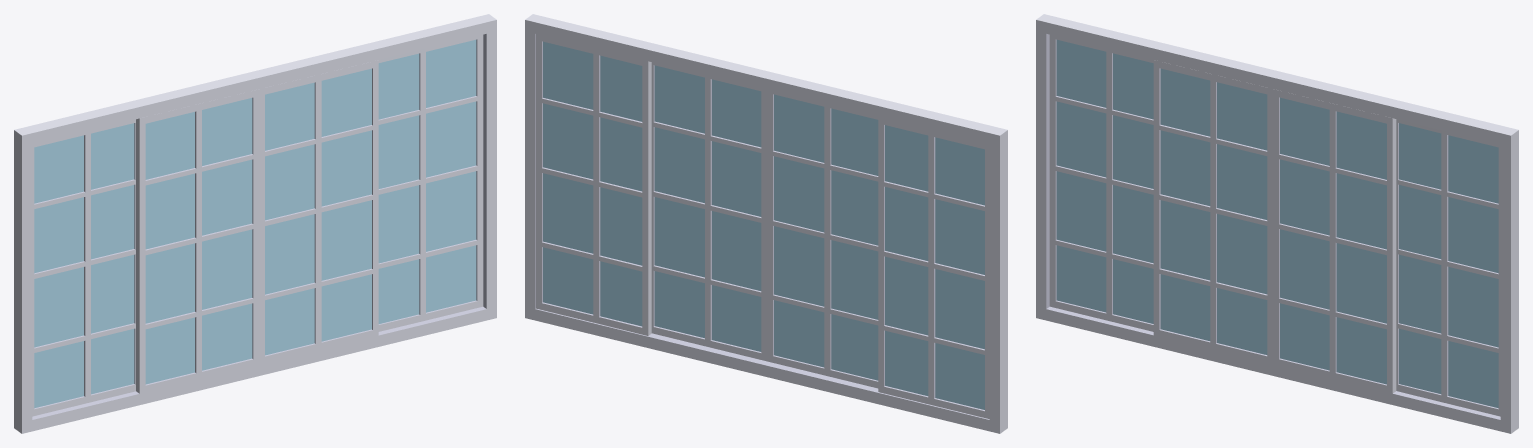
File: SM_Window_200_120.fbx
3 renders of one model, left to right at view 1: azimuth 30°, elevation 25°; view 2: azimuth 150°, elevation 25°; view 3: azimuth 330°, elevation 25°, orthographic.
Parts seen in each view (by area): view 1: polySurface9, Glass2, Glass3, Glass, Glass1, polySurface13, polySurface11, polySurface12, polySurface8; view 2: Glass2, polySurface9, Glass3, Glass, Glass1, polySurface12, polySurface8, polySurface11, polySurface13; view 3: polySurface9, Glass3, Glass2, Glass1, Glass, polySurface11, polySurface13, polySurface8, polySurface12.
Boxes of the visible parts, bbox=[...] form: polySurface9: bbox=[14, 14, 496, 433]; Glass2: bbox=[265, 68, 371, 355]; Glass3: bbox=[145, 98, 252, 384]; Glass: bbox=[34, 123, 134, 408]; Glass1: bbox=[378, 39, 476, 323]; polySurface13: bbox=[136, 89, 259, 393]; polySurface11: bbox=[259, 60, 378, 364]; polySurface12: bbox=[378, 34, 483, 331]; polySurface8: bbox=[32, 119, 135, 416]; Glass2: bbox=[654, 65, 761, 351]; polySurface9: bbox=[525, 14, 1007, 433]; Glass3: bbox=[774, 94, 878, 380]; Glass: bbox=[885, 125, 984, 409]; Glass1: bbox=[543, 41, 642, 326]; polySurface12: bbox=[536, 34, 651, 335]; polySurface8: bbox=[878, 117, 989, 418]; polySurface11: bbox=[651, 62, 767, 361]; polySurface13: bbox=[767, 90, 878, 388]; polySurface9: bbox=[1036, 14, 1518, 433]; Glass3: bbox=[1160, 68, 1267, 354]; Glass2: bbox=[1280, 97, 1386, 384]; Glass1: bbox=[1399, 123, 1498, 408]; Glass: bbox=[1056, 39, 1153, 323]; polySurface11: bbox=[1273, 89, 1396, 393]; polySurface13: bbox=[1153, 60, 1273, 364]; polySurface8: bbox=[1049, 34, 1153, 331]; polySurface12: bbox=[1396, 119, 1500, 416].
Bounding box in the file's own units: 2 × 1.2 × 0.0584.
